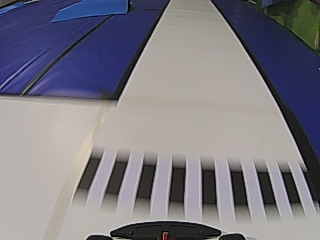CrossWalk: (78, 152, 308, 209)
